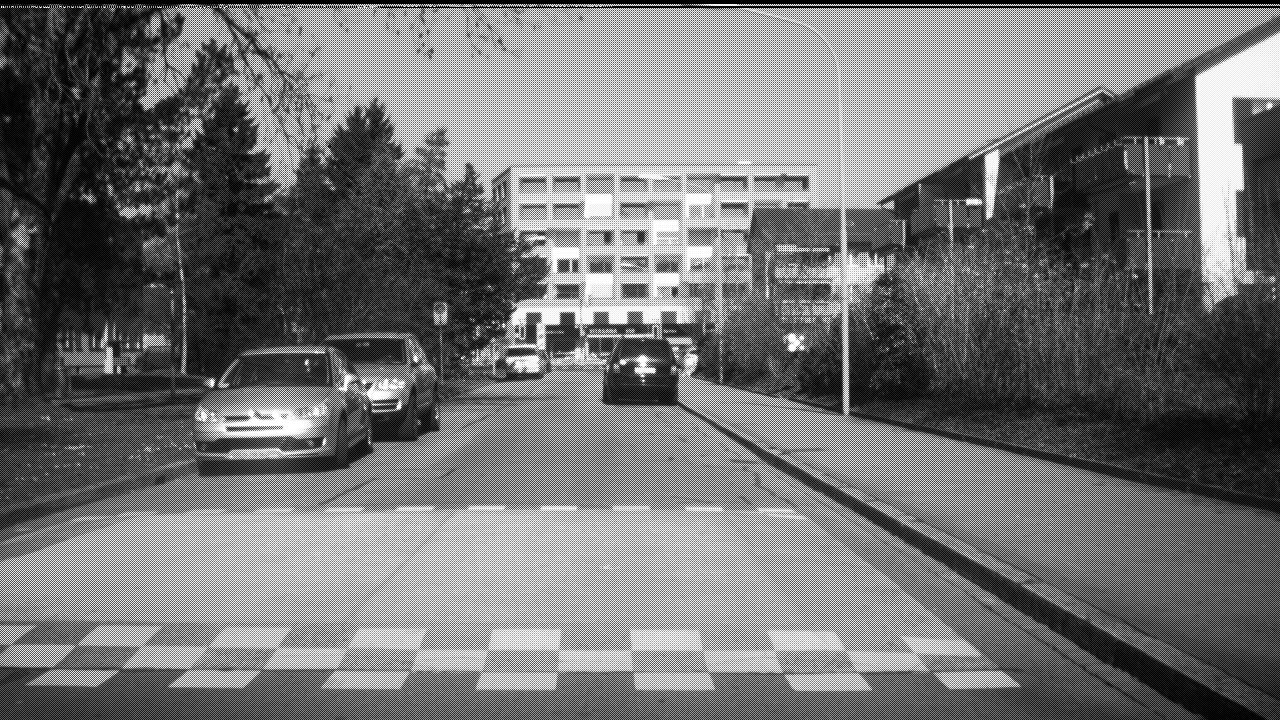pole: (832, 48, 851, 406), (714, 196, 725, 381)
